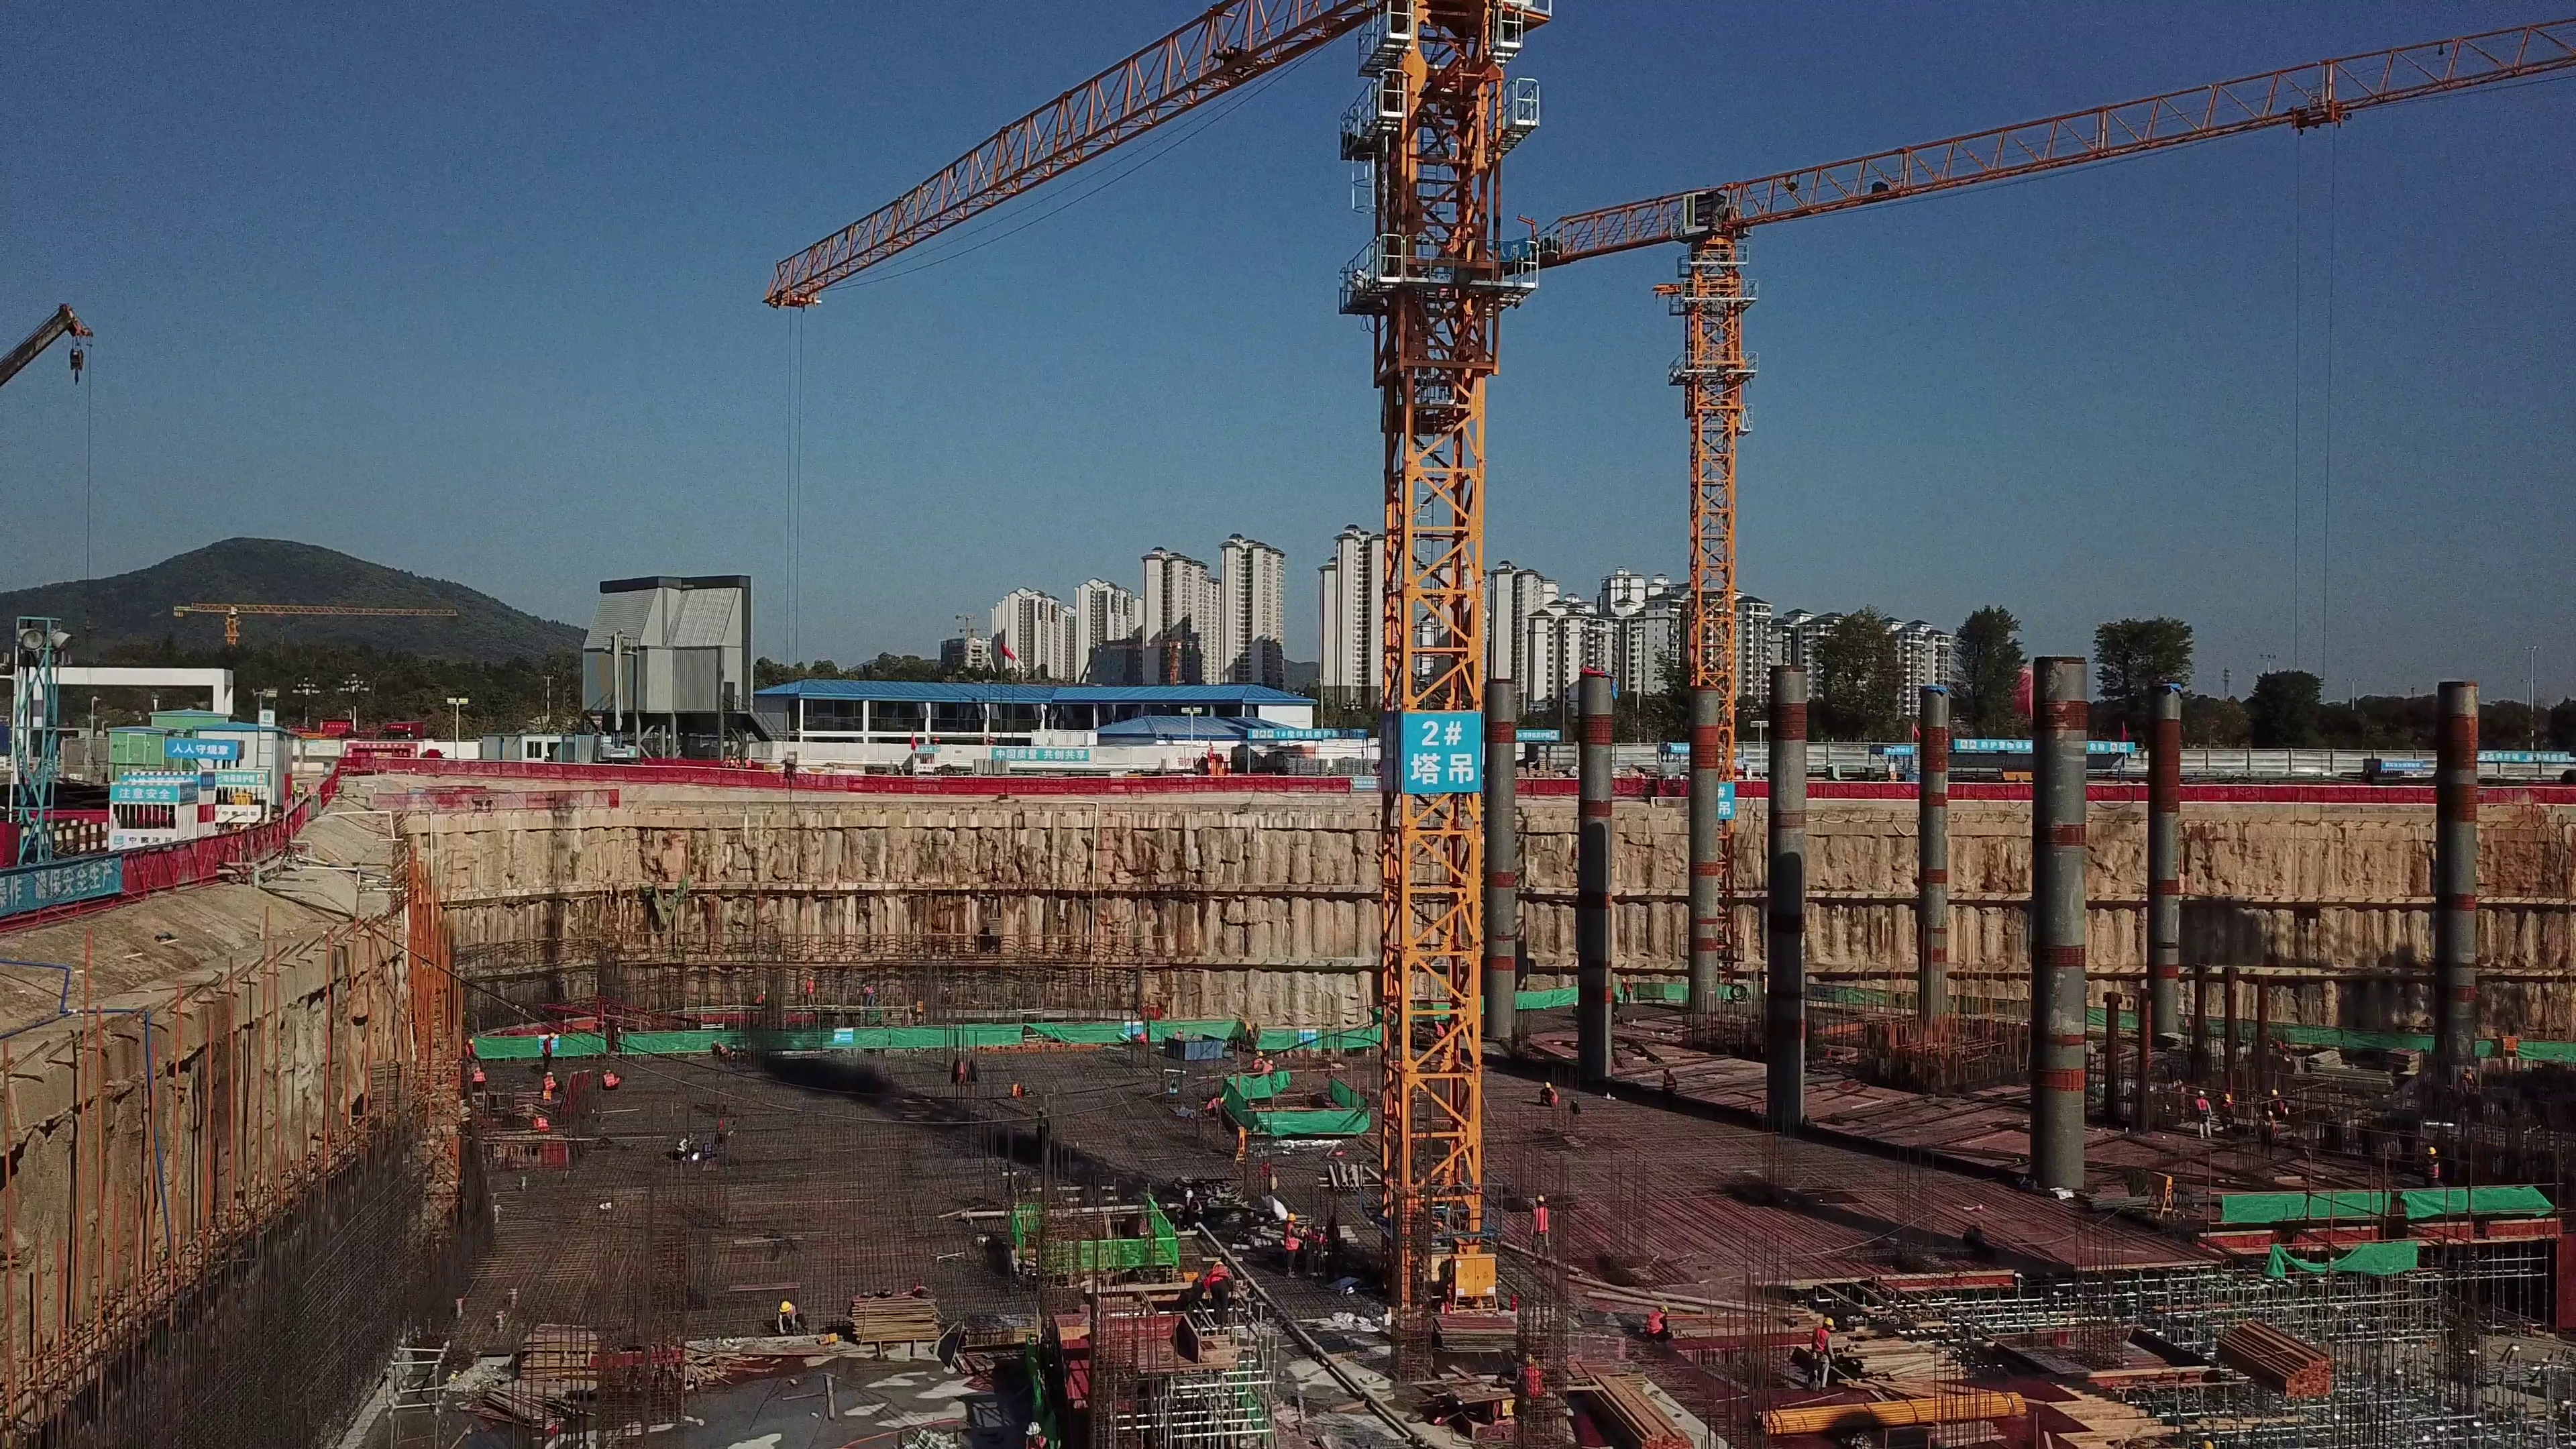board: (851, 1292, 943, 1344), (1431, 1307, 1519, 1352), (960, 1303, 1044, 1343)
ebox: (1449, 1254, 1500, 1307), (2143, 1169, 2178, 1217), (1232, 1125, 1249, 1165), (2500, 1032, 2520, 1057)
helmet: (1024, 1423, 1042, 1434), (777, 1299, 795, 1311), (1823, 1317, 1838, 1327), (1659, 1302, 1670, 1313), (1974, 1220, 1986, 1230), (1536, 1192, 1545, 1201), (1543, 1080, 1552, 1088), (2271, 1088, 2281, 1096), (2265, 1112, 2275, 1119), (2198, 1089, 2206, 1097), (2223, 1093, 2231, 1102), (1664, 1065, 1670, 1071), (1621, 975, 1625, 982)
person: (1201, 1255, 1243, 1332), (1807, 1312, 1837, 1393), (1532, 1191, 1557, 1257), (770, 1299, 814, 1336), (1016, 1419, 1067, 1449), (1281, 1209, 1303, 1281), (1519, 1353, 1549, 1406), (1642, 1301, 1676, 1343), (1962, 1220, 1993, 1253), (2194, 1088, 2213, 1139), (539, 1030, 560, 1069), (1659, 1063, 1681, 1102), (2219, 1092, 2237, 1130), (2259, 1111, 2279, 1150), (1536, 1078, 1561, 1107), (1619, 973, 1638, 1006), (464, 1037, 487, 1064), (601, 1066, 626, 1089), (471, 1067, 492, 1090), (2269, 1083, 2286, 1108), (543, 1067, 562, 1089), (805, 974, 820, 1003), (534, 1114, 553, 1133)
vest: (1646, 1309, 1666, 1334), (1209, 1267, 1233, 1285), (1285, 1224, 1301, 1250), (1536, 1207, 1551, 1232), (1812, 1326, 1827, 1352), (2194, 1097, 2211, 1113), (2428, 1161, 2443, 1179), (604, 1073, 620, 1087), (534, 1118, 548, 1129), (544, 1077, 559, 1088), (475, 1071, 488, 1081), (1665, 1073, 1676, 1086), (806, 981, 815, 996), (1621, 983, 1631, 991)
wood: (2215, 1316, 2333, 1399), (1585, 1373, 1698, 1449)
